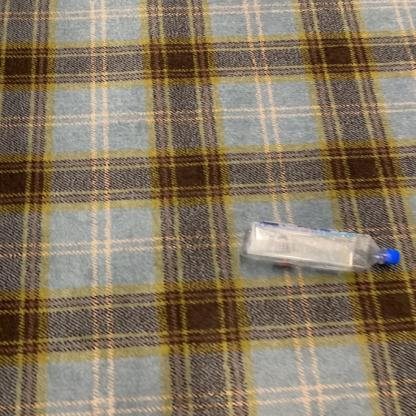trash: (240, 222, 406, 275)
